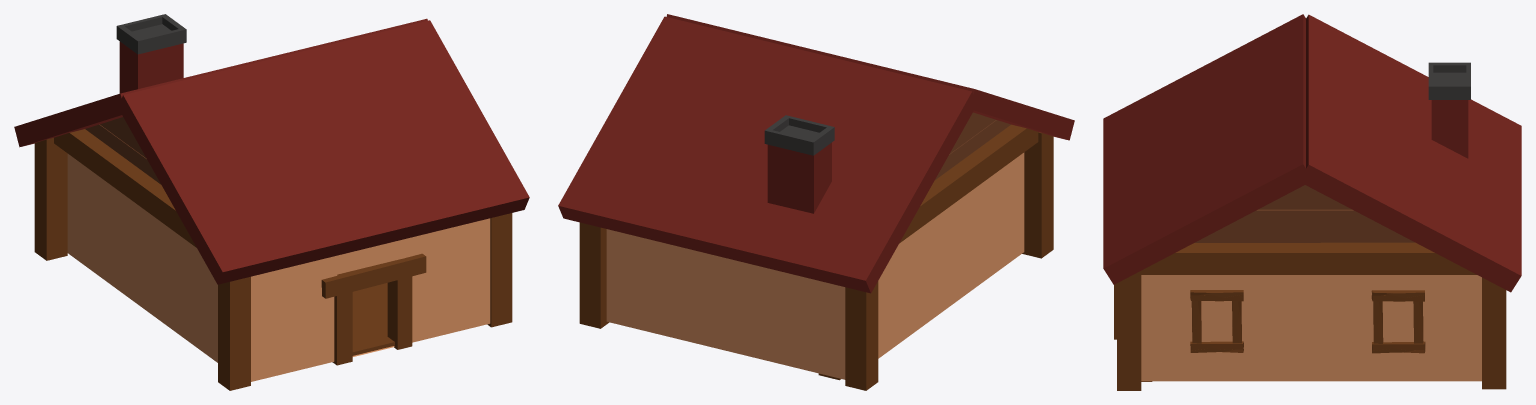
File: HouseColi.fbx
3 renders of one model, left to right at view 1: azimuth 30°, elevation 25°; view 2: azimuth 150°, elevation 25°; view 3: azimuth 270°, elevation 25°, orthographic.
Parts seen in each view (by area): view 1: Cube.833, Cube.828, Cube.830, Cube.1031, Cube.1021, Cube.1016, Cube.832, Cube.996, Cube.901, Cube.827, Cube.1011, Cube.951 (+4 smaller); view 2: Cube.832, Cube.829, Cube.830, Cube.1031, Cube.901, Cube.833, Cube.1016, Cube.1021, Cube.952, Cube.951, Cube.822, Cube.823; view 3: Cube.833, Cube.832, Cube.831, Cube.1026, Cube.996, Cube.816, Cube.952, Cube.817, Cube.901, Cube.951, Cube.818, Cube.878 (+7 smaller).
Part boxes in pixels (x1,y1,x2,y2): Cube.833: [118, 20, 529, 284]; Cube.828: [251, 218, 490, 381]; Cube.830: [67, 154, 217, 362]; Cube.1031: [54, 129, 196, 247]; Cube.1021: [34, 137, 67, 260]; Cube.1016: [218, 276, 250, 390]; Cube.832: [14, 18, 427, 147]; Cube.996: [487, 213, 512, 327]; Cube.901: [119, 41, 183, 93]; Cube.827: [352, 283, 394, 355]; Cube.1011: [321, 253, 426, 298]; Cube.951: [116, 14, 186, 54]; Cube.832: [558, 16, 973, 293]; Cube.829: [606, 229, 845, 379]; Cube.830: [878, 152, 1024, 358]; Cube.1031: [899, 124, 1038, 243]; Cube.901: [767, 142, 831, 213]; Cube.833: [666, 14, 1074, 140]; Cube.1016: [1022, 132, 1053, 258]; Cube.1021: [845, 281, 878, 390]; Cube.952: [579, 222, 609, 328]; Cube.951: [764, 115, 834, 155]; Cube.822: [935, 120, 1010, 179]; Cube.823: [950, 116, 995, 153]; Cube.833: [1103, 14, 1313, 284]; Cube.832: [1305, 14, 1521, 292]; Cube.831: [1141, 275, 1481, 381]; Cube.1026: [1138, 242, 1476, 274]; Cube.996: [1117, 271, 1141, 390]; Cube.816: [1194, 229, 1414, 242]; Cube.952: [1482, 277, 1506, 389]; Cube.817: [1221, 209, 1388, 228]; Cube.901: [1431, 100, 1468, 158]; Cube.951: [1428, 62, 1470, 99]; Cube.818: [1258, 196, 1351, 209]; Cube.878: [1371, 290, 1424, 301].
Size of the model in its own units: 1356 by 978 by 1596.
